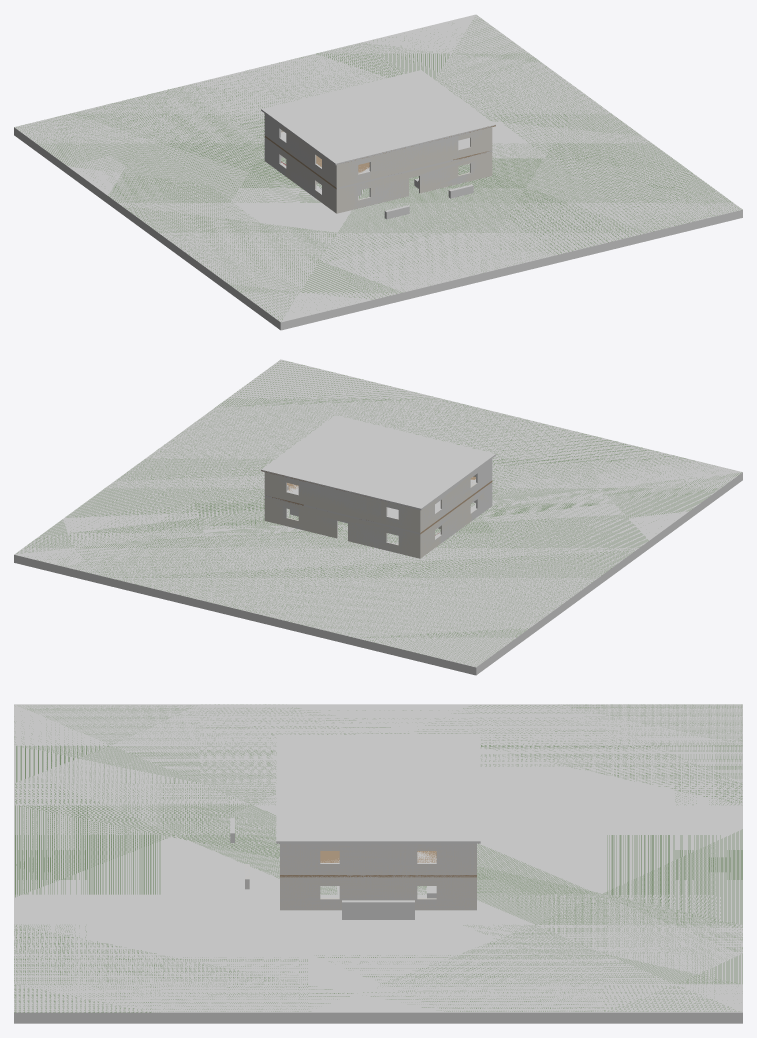
The model's file is map_house.glb.
3 views of the same model, one above another, from view 1: azimuth 30°, elevation 25°; view 2: azimuth 150°, elevation 25°; view 3: azimuth 270°, elevation 25° (orthographic). The views are drawn at different scales.
Visible parts, largest first — view 1: Col_Ground, Ground, Col_Roof, Static_Walls, Col_Wall_68, Col_Wall_18, Col_Wall_54; view 2: Col_Ground, Ground, Col_Roof, Static_Walls, Col_Wall_75, Col_Wall_27, Col_Wall_54; view 3: Col_Ground, Ground, Col_Roof, Static_Walls, Col_Wall_61, Col_Barrier_03, Col_Wall_11, Col_Wall_58, Col_Wall_64, Static_Floors_Stairs_Roof, Col_Wall_08, Col_Wall_14.
Boxes of the visible parts, x1=… form: Col_Ground: x1=14, y1=14, x2=742, y2=330; Ground: x1=16, y1=16, x2=742, y2=321; Col_Roof: x1=261, y1=70, x2=495, y2=165; Static_Walls: x1=278, y1=126, x2=492, y2=213; Col_Wall_68: x1=369, y1=135, x2=458, y2=176; Col_Wall_18: x1=369, y1=177, x2=408, y2=204; Col_Wall_54: x1=286, y1=134, x2=315, y2=171; Col_Ground: x1=14, y1=359, x2=742, y2=675; Ground: x1=17, y1=361, x2=741, y2=666; Col_Roof: x1=261, y1=415, x2=495, y2=510; Static_Walls: x1=264, y1=472, x2=488, y2=558; Col_Wall_75: x1=298, y1=480, x2=387, y2=520; Col_Wall_27: x1=348, y1=519, x2=387, y2=549; Col_Wall_54: x1=441, y1=475, x2=470, y2=516; Col_Ground: x1=14, y1=704, x2=742, y2=1023; Ground: x1=14, y1=704, x2=742, y2=1012; Col_Roof: x1=276, y1=734, x2=480, y2=843; Static_Walls: x1=245, y1=843, x2=476, y2=910; Col_Wall_61: x1=339, y1=843, x2=417, y2=874; Col_Barrier_03: x1=342, y1=900, x2=414, y2=919; Col_Wall_11: x1=339, y1=877, x2=417, y2=909; Col_Wall_58: x1=280, y1=843, x2=320, y2=874; Col_Wall_64: x1=436, y1=843, x2=476, y2=874; Static_Floors_Stairs_Roof: x1=280, y1=851, x2=476, y2=877; Col_Wall_08: x1=280, y1=877, x2=320, y2=910; Col_Wall_14: x1=436, y1=877, x2=476, y2=910.
Size of the model in its own units: 60 by 7.4 by 60.
